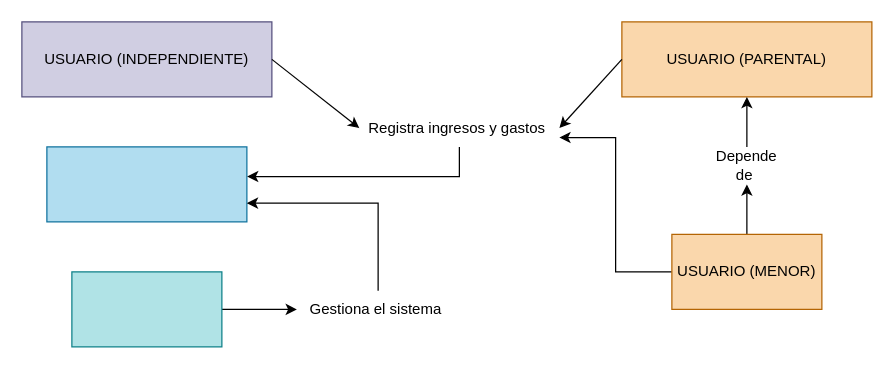
Image size: 894x369. Some labels were removed from this diagram. Each missing label, with the centre of its shape:
"ADMINISTRADOR" goes at [146,309].
"MONEBANK (SISTEMA)" goes at [146,184].
